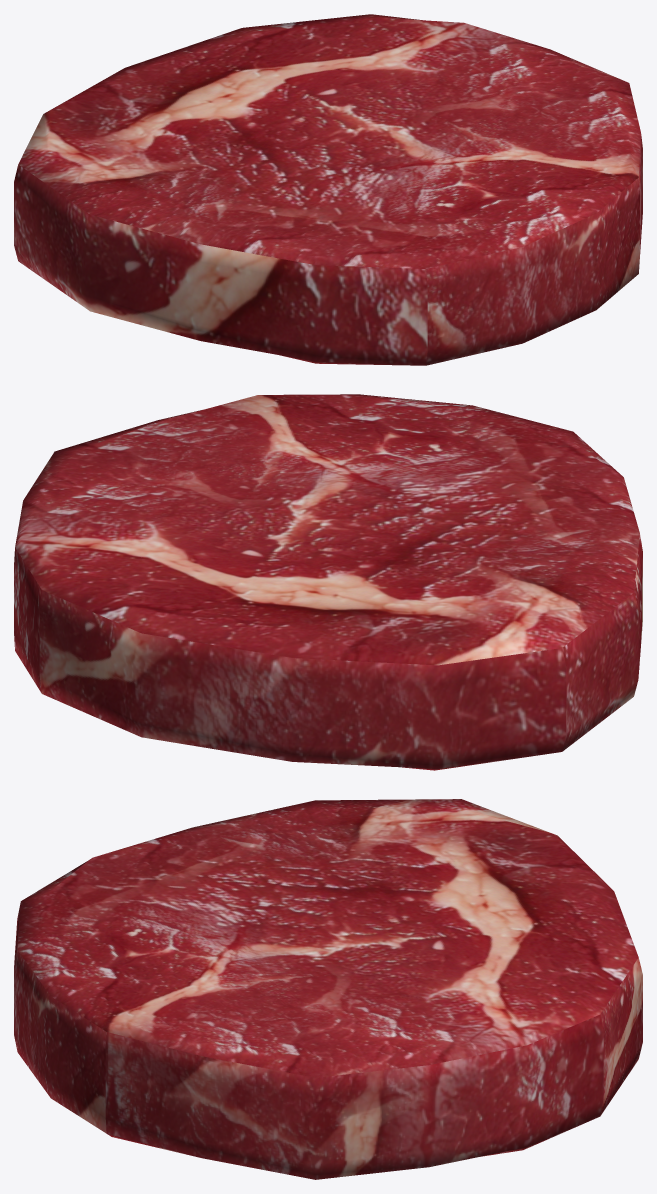
File: Daging.fbx
The picture shows the model from 3 angles, top to bottom: view 1: azimuth 30°, elevation 25°; view 2: azimuth 150°, elevation 25°; view 3: azimuth 270°, elevation 25°; orthographic projection. The views are drawn at different scales.
Parts seen in each view (by area): view 1: Daging mentah; view 2: Daging mentah; view 3: Daging mentah.
Boxes of the visible parts, box(x1,y1,x2,y2) form: Daging mentah: box(14, 14, 642, 365); Daging mentah: box(14, 394, 642, 770); Daging mentah: box(14, 799, 642, 1179).
Size of the model in its own units: 39.63 by 7.65 by 37.3.
Materials: 1 (1 with a texture image).
